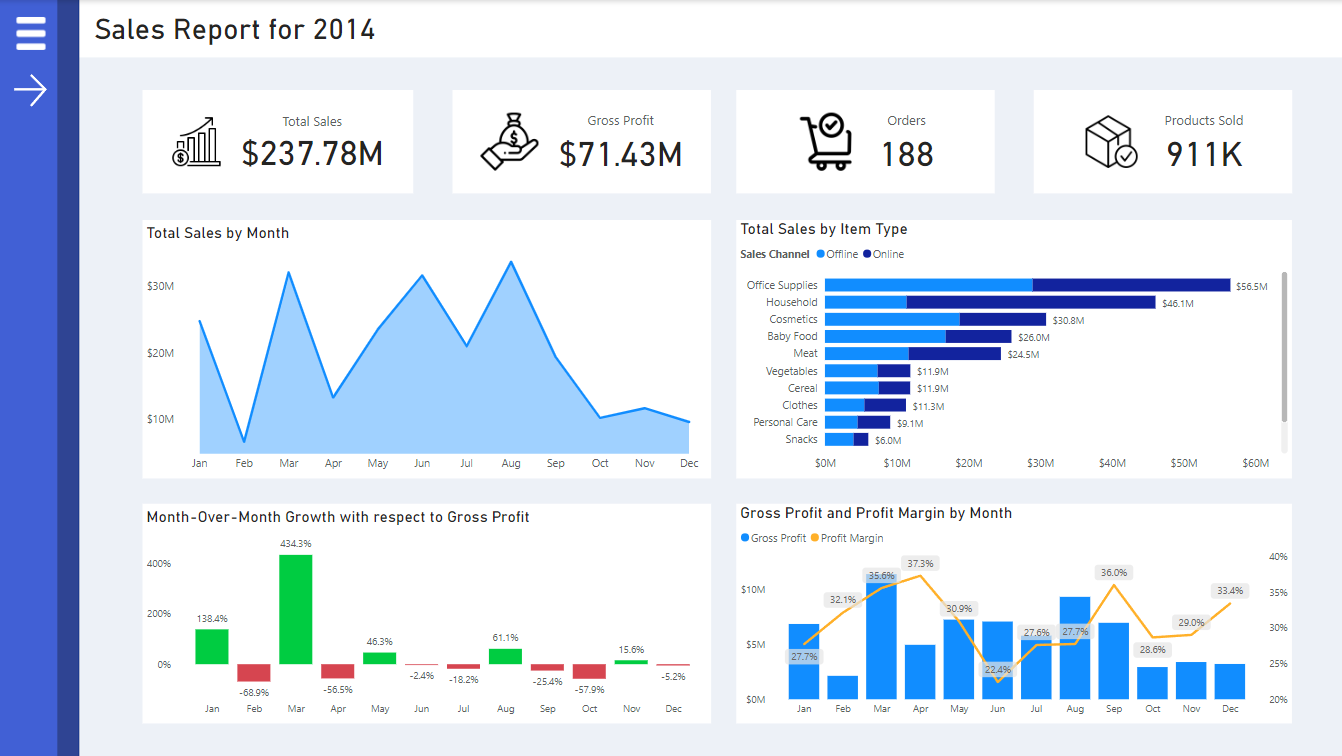

The page's visual inventory and layout, read from the dashboard file:
{"tool":"powerbi","page":{"name":"Summary","canvas":[1664,936],"ordinal":0},"visuals":[{"type":"areaChart","title":"Total Sales by Month","fields":{"Category":["Dates.Month"],"Y":["Sales.Total Sales"]},"box":[176,272,704,320],"z":0},{"type":"columnChart","title":"Month-Over-Month Growth with respect to Gross Profit","fields":{"Y":["Sales.MOM Gross Profit Growth"],"Category":["Dates.Month"]},"box":[176,624,704,272],"z":1000},{"type":"cardVisual","title":"Total Sales Card","fields":{"Data":["Sales.Total Sales"]},"box":[176.7,111.7,335,128.3],"z":2000},{"type":"barChart","title":"Total Sales by Item Type ","fields":{"Category":["Sales.Item Type"],"Series":["Sales.Sales Channel"],"Y":["Sales.Total Sales"]},"box":[912,272,688,320],"z":3000},{"type":"card","title":"Title Card","fields":{"Values":["Sales.Dynamic Year Title"]},"box":[106.7,0,368.3,65],"z":4000},{"type":"lineStackedColumnComboChart","fields":{"Category":["Dates.Month"],"Y2":["Sales.% GM"],"Y":["Sales.Gross Profit"]},"box":[912,624,688,272],"z":5000},{"type":"cardVisual","title":"Quantity Card","fields":{"Data":["Sales.Total Quantity"]},"box":[1280,112,320,128],"z":6000},{"type":"cardVisual","title":"Total Orders Card","fields":{"Data":["Sales.Total Orders"]},"box":[912,112,320,128],"z":7000},{"type":"cardVisual","title":"Gross Profit Card","fields":{"Data":["Sales.Gross Profit"]},"box":[560,112,320,128],"z":8000},{"type":"actionButton","title":"Menu Bar Button","box":[14.4,16.7,48.9,48.9],"z":9000},{"type":"actionButton","box":[11,84,52,56],"z":10000}]}

Visuals, with their boxes in screenshot pixels (x1, y1, x2, y2), scaled from the page's 1664x936 canvas onto the 1342x756 screenshot:
"Total Sales by Month" areaChart: region(142, 220, 710, 478)
"Month-Over-Month Growth with respect to Gross Profit" columnChart: region(142, 504, 710, 724)
"Total Sales Card" cardVisual: region(143, 90, 413, 194)
"Total Sales by Item Type " barChart: region(736, 220, 1290, 478)
"Title Card" card: region(86, 0, 383, 52)
lineStackedColumnComboChart - Dates.Month x Sales.% GM: region(736, 504, 1290, 724)
"Quantity Card" cardVisual: region(1032, 90, 1290, 194)
"Total Orders Card" cardVisual: region(736, 90, 994, 194)
"Gross Profit Card" cardVisual: region(452, 90, 710, 194)
"Menu Bar Button" actionButton: region(12, 13, 51, 53)
actionButton: region(9, 68, 51, 113)
